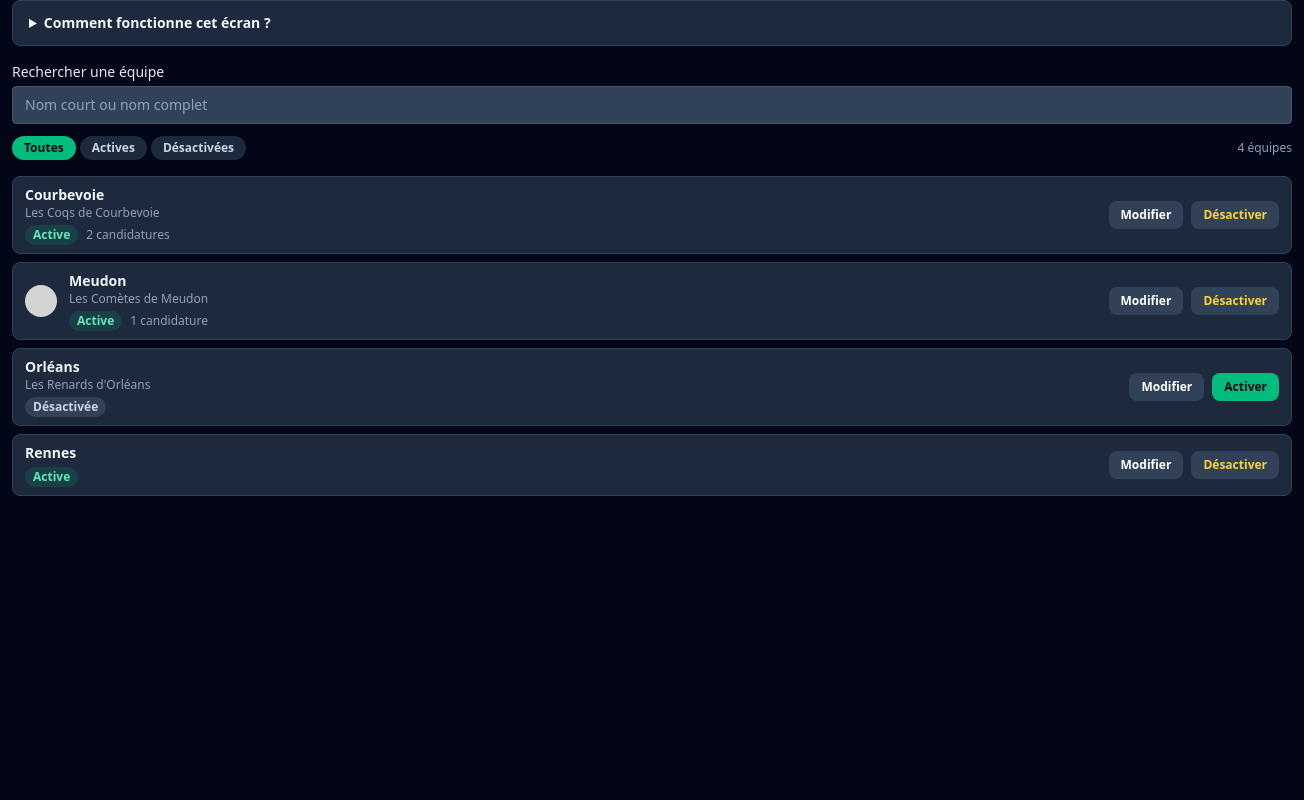
it: GestionEquipesReferentiel — modification des noms (CA4, CA5) › enregistre le nom complet seul, sans envoyer le nom court, et met la ligne à jour
Click the button with aria-label "Modifier Rennes": (1146, 465) top-left (1108, 451), bottom-right (1183, 479)
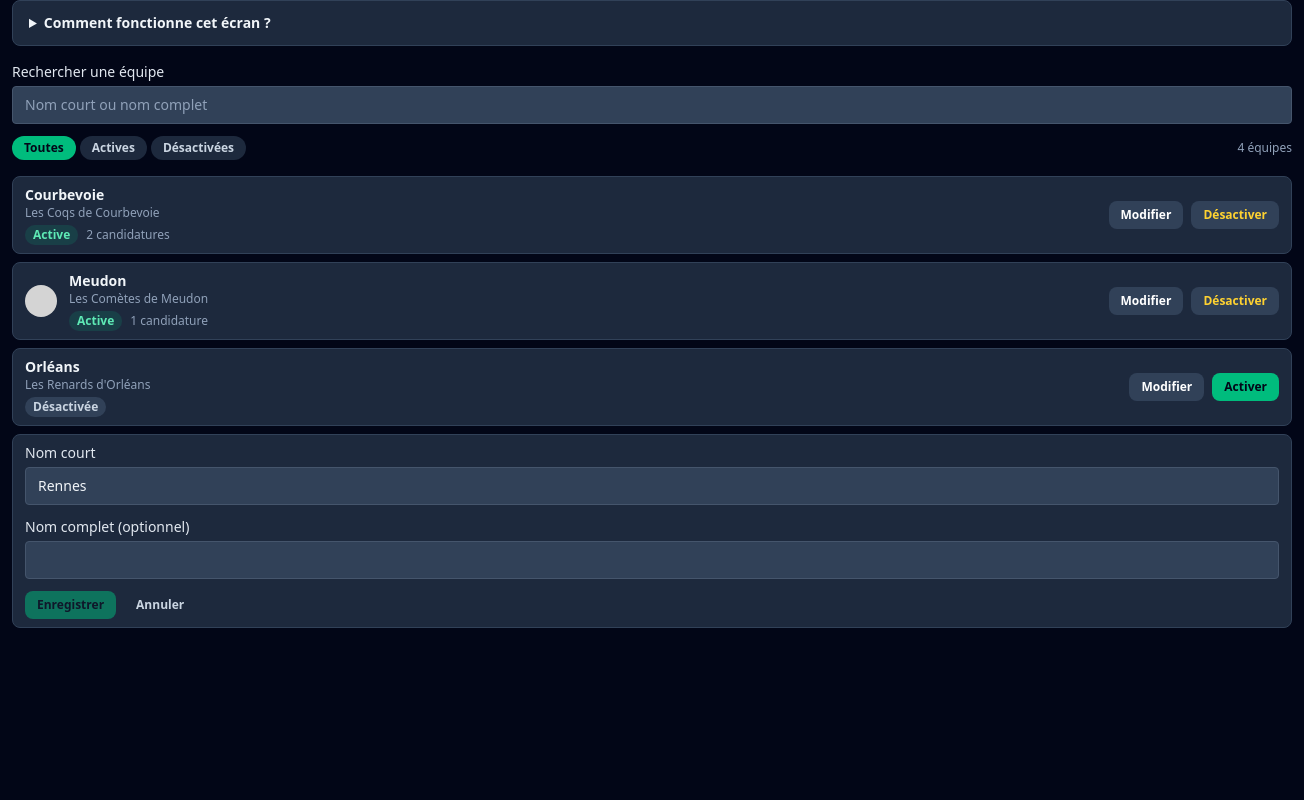
In the field labelled "Nom complet (optionnel)": (652, 560) top-left (25, 541), bottom-right (1279, 579), type "  Les Cormorans de Rennes "
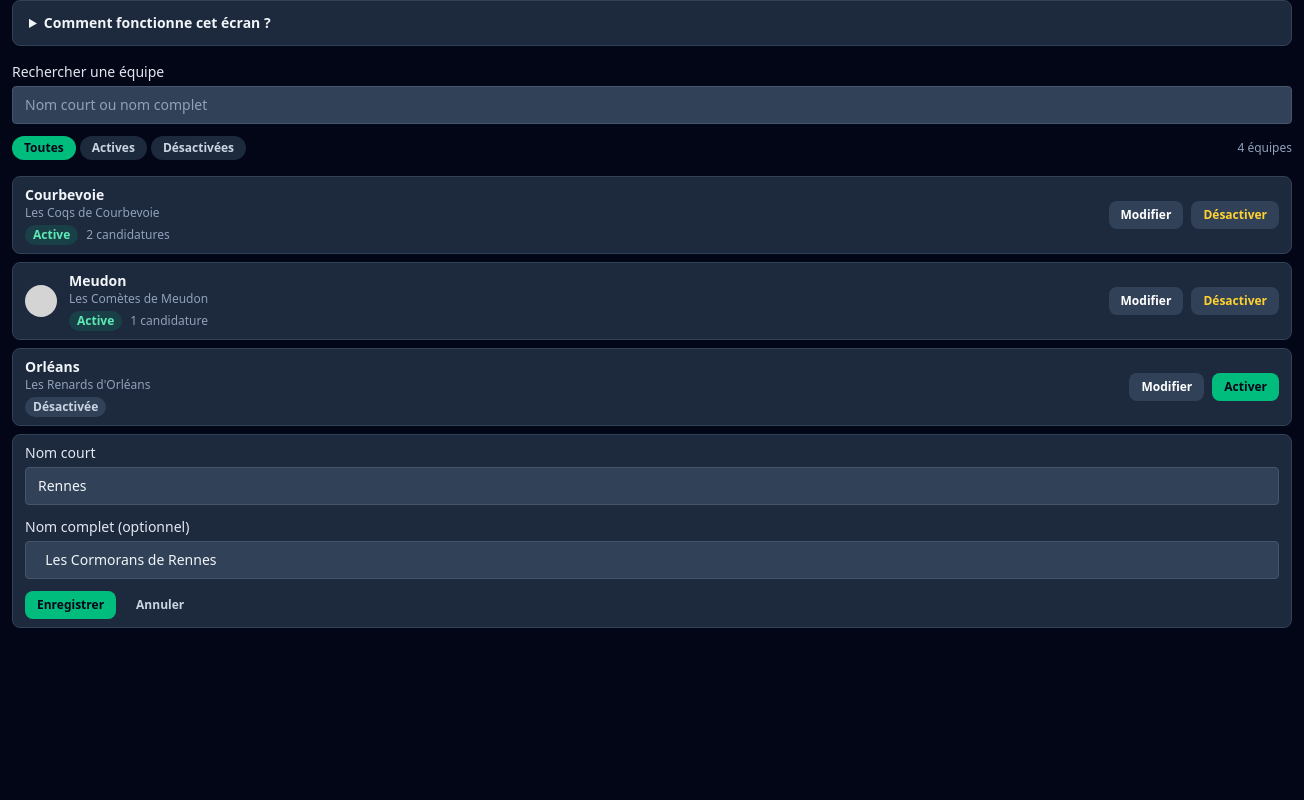
Click the button "Enregistrer": (71, 605) top-left (25, 591), bottom-right (116, 619)
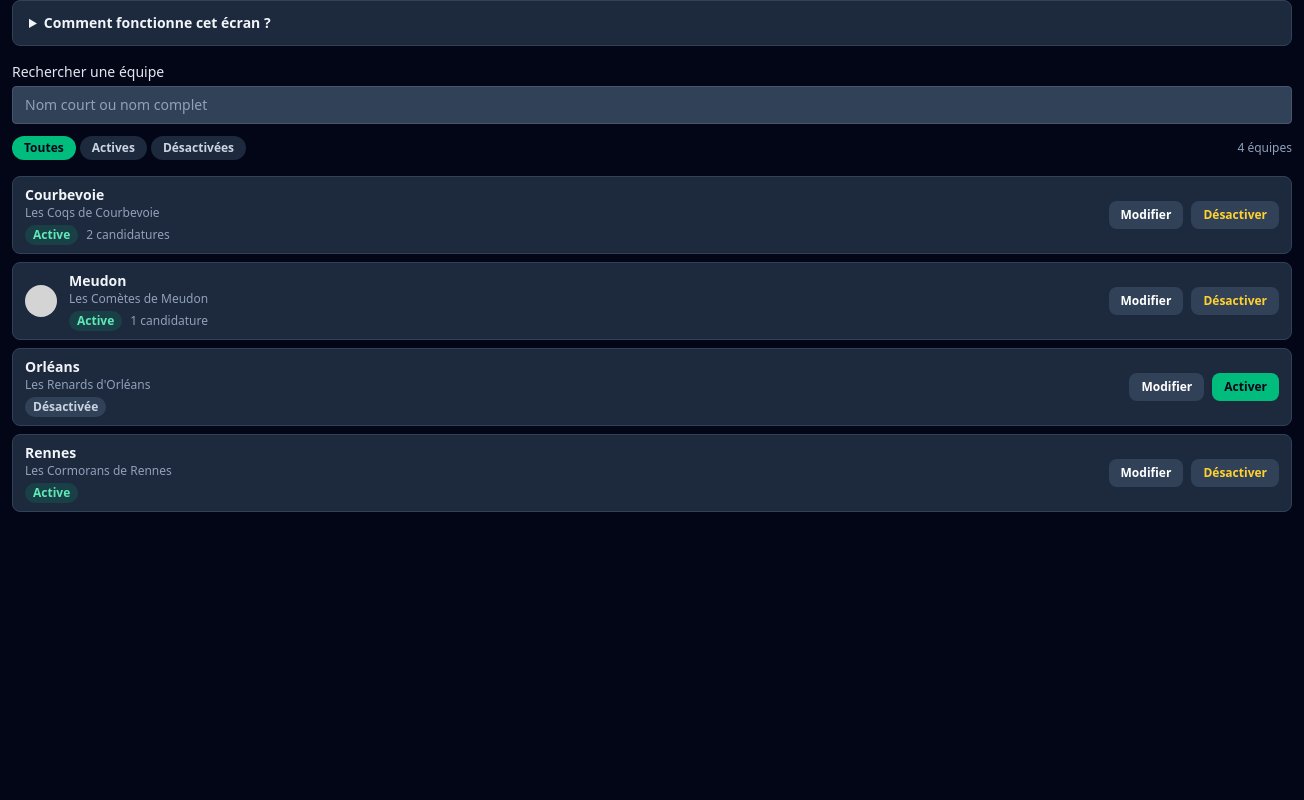
Result: the text "Les Cormorans de Rennes" is shown at top-left (25, 462), bottom-right (172, 479)
